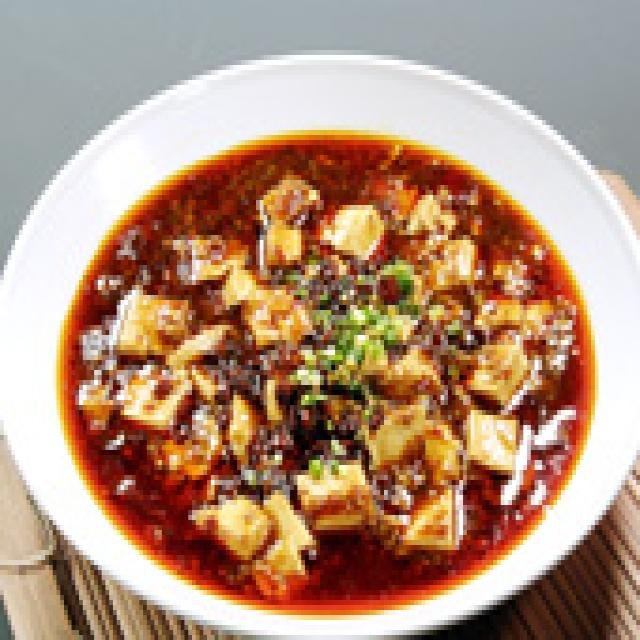豆腐料理: (0, 35, 640, 640)
